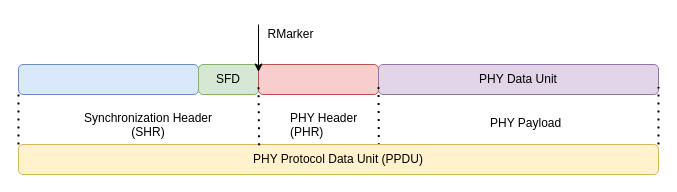
This 677x192 diagram has some shape labels left out. Each missing label, with the centre of its shape:
"PHY Header" goes at point 318,79.
"Preamble" goes at point 108,79.
